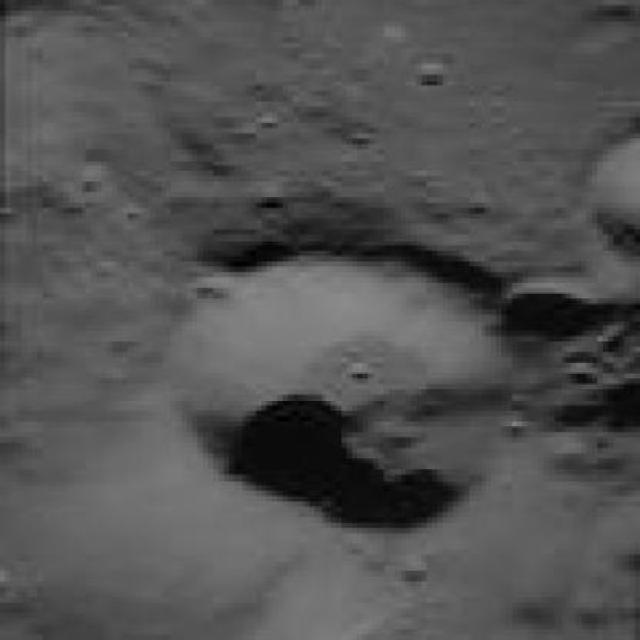crater: (166, 258, 523, 531)
